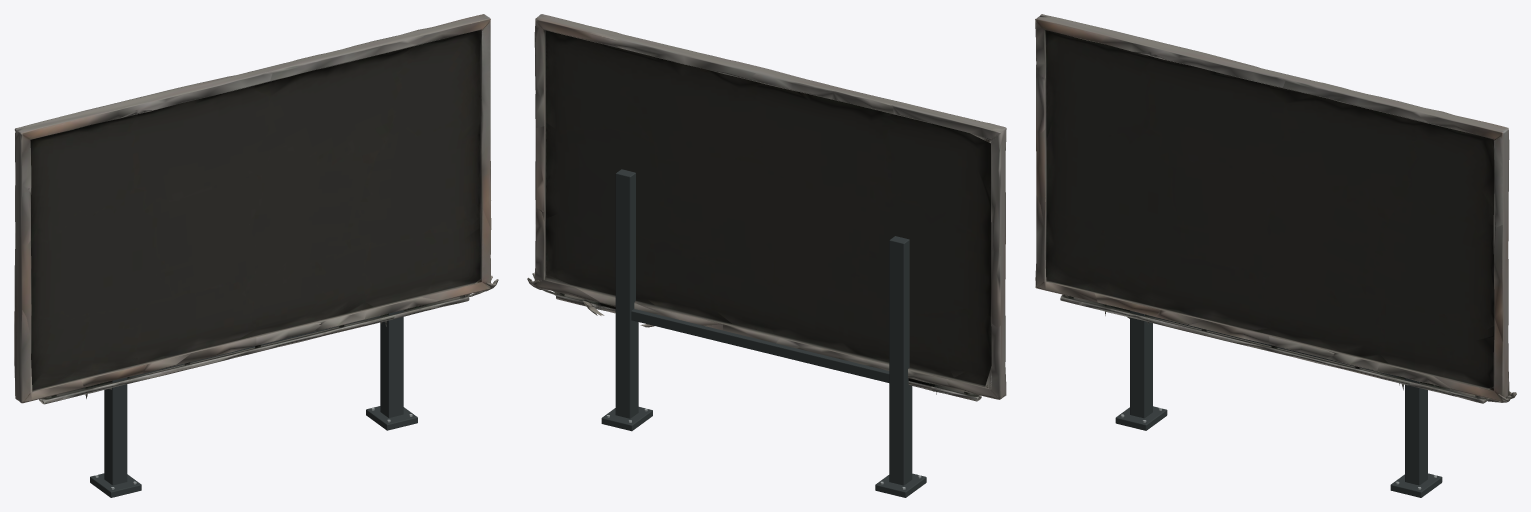
The model's file is trianon-billboard-v1.glb.
The picture shows the model from 3 angles, left to right: view 1: azimuth 30°, elevation 25°; view 2: azimuth 150°, elevation 25°; view 3: azimuth 330°, elevation 25°; orthographic projection.
Visible parts, largest first — view 1: Tripo bronze-edged billboard frame, Anchored steel upright; view 2: Tripo bronze-edged billboard frame, Anchored steel upright; view 3: Tripo bronze-edged billboard frame, Anchored steel upright.
Boxes of the visible parts, x1,y1,x2,y2 form: Tripo bronze-edged billboard frame: (14,14,498,404); Anchored steel upright: (90,310,417,497); Tripo bronze-edged billboard frame: (527,14,1006,401); Anchored steel upright: (601,169,926,497); Tripo bronze-edged billboard frame: (1035,14,1516,403); Anchored steel upright: (1115,310,1442,497).
Bounding box in the file's own units: 20.8 × 15.93 × 1.6.
Materials: 3 (1 with a texture image).
